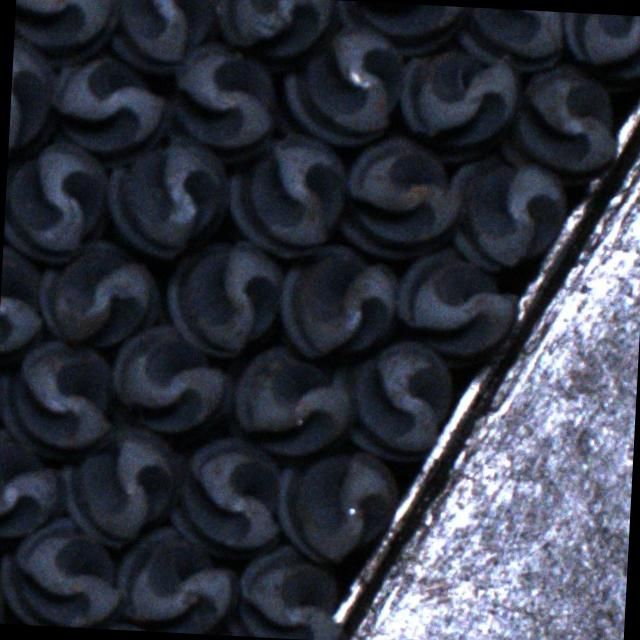tool_b: (106, 134, 234, 262), (278, 21, 406, 148), (227, 132, 351, 262), (335, 136, 460, 264), (60, 424, 184, 549), (394, 244, 520, 367), (443, 154, 567, 276), (109, 322, 238, 439), (398, 44, 523, 164), (278, 242, 400, 363), (273, 448, 398, 566), (162, 238, 284, 358), (0, 340, 119, 463), (45, 54, 171, 170), (498, 57, 620, 176), (170, 436, 288, 559), (0, 513, 123, 629), (165, 39, 281, 162), (35, 238, 160, 352), (226, 345, 352, 458), (341, 336, 455, 460), (113, 524, 240, 635), (3, 140, 112, 266), (233, 541, 343, 640), (210, 0, 342, 72), (104, 0, 216, 72), (0, 428, 63, 549), (330, 0, 464, 56), (454, 7, 565, 72), (8, 34, 60, 168), (560, 12, 640, 91), (13, 0, 115, 58), (0, 243, 45, 362)
